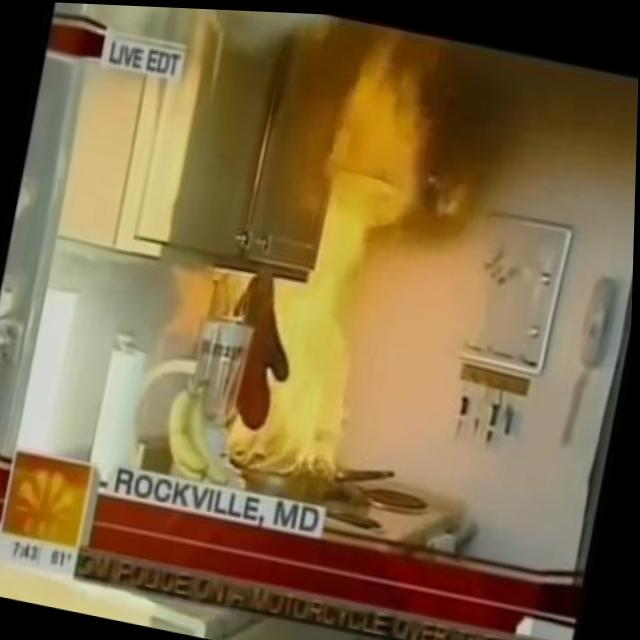fire: (199, 11, 454, 491)
